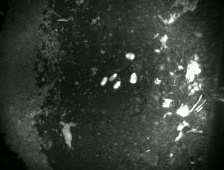corn: (127, 70, 140, 85), (96, 74, 110, 87), (111, 78, 123, 91), (107, 70, 119, 83), (123, 51, 137, 61)
